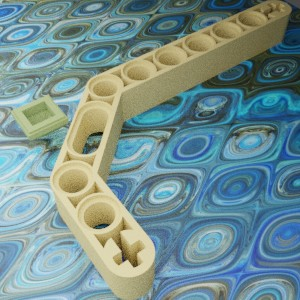lego: (49, 0, 291, 299), (10, 94, 69, 140)
